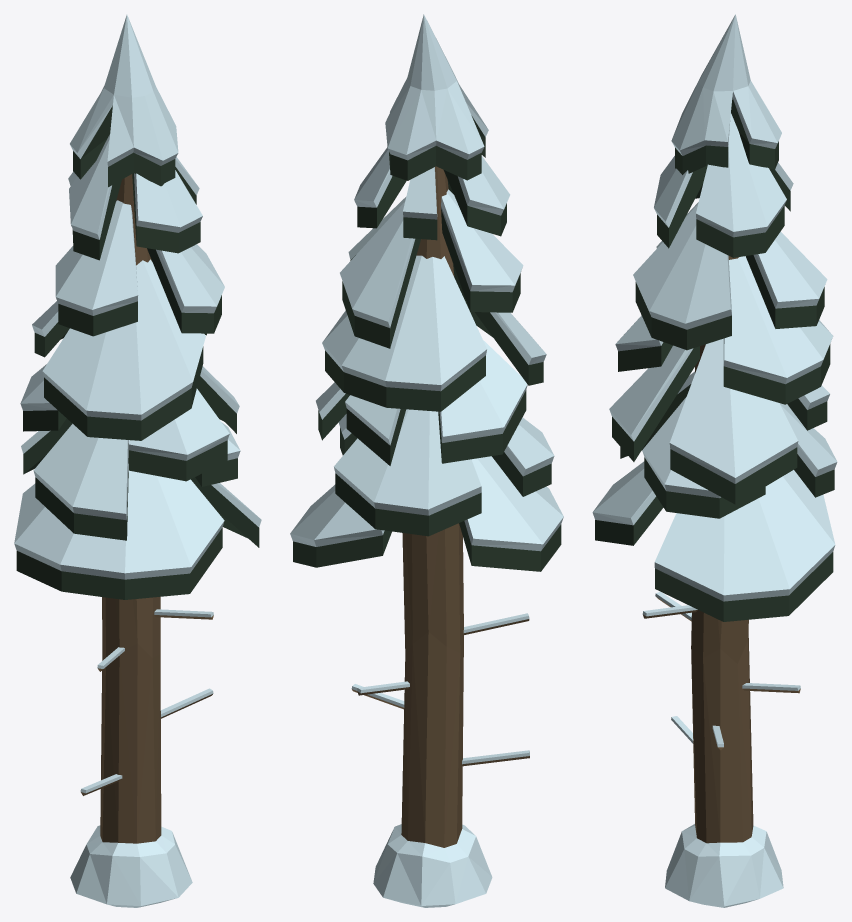
Rendered from SM_Env_Tree_Pine_Large_02_Snow.fbx.
3 views of the same model, side by side, from view 1: azimuth 30°, elevation 25°; view 2: azimuth 150°, elevation 25°; view 3: azimuth 270°, elevation 25° (orthographic).
Parts seen in each view (by area): view 1: SM_Env_Tree_Pine_Large_02_Snow; view 2: SM_Env_Tree_Pine_Large_02_Snow; view 3: SM_Env_Tree_Pine_Large_02_Snow.
Part boxes in pixels (<box>): SM_Env_Tree_Pine_Large_02_Snow: <box>14,14,261,907</box>; SM_Env_Tree_Pine_Large_02_Snow: <box>290,14,563,907</box>; SM_Env_Tree_Pine_Large_02_Snow: <box>592,14,837,907</box>.
Bounding box in the file's own units: 206 × 743 × 186.
